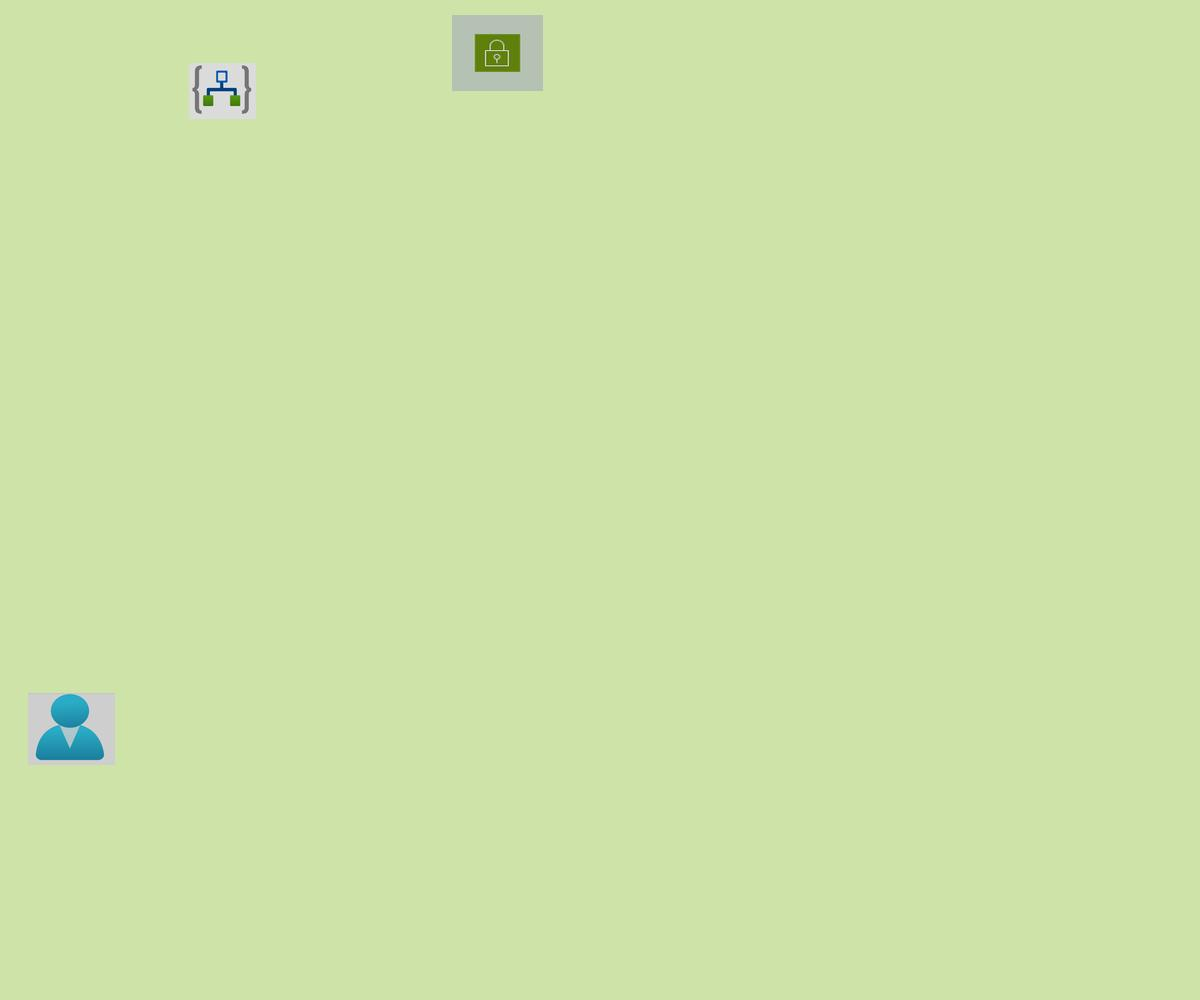AWS-Public-subnet: (452, 15, 543, 91)
Azure_integration-204-Logic-Apps: (189, 63, 256, 119)
Azure_users: (28, 693, 115, 765)
